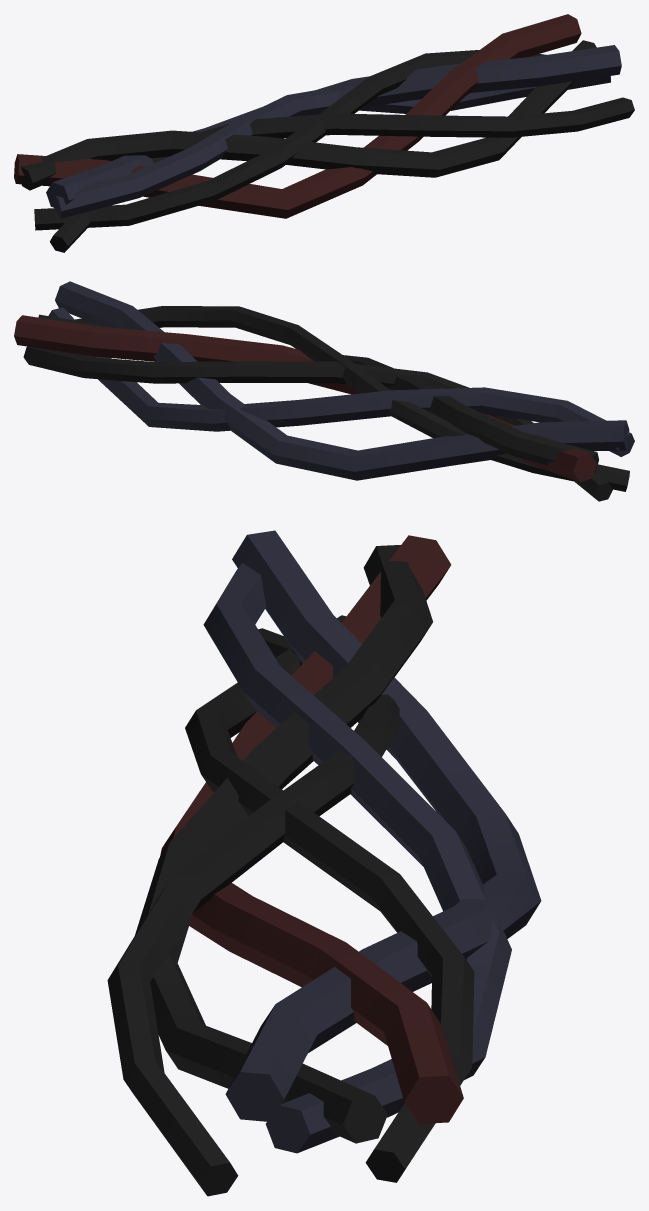
File: cable_bundle.glb
3 views of the same model, one above another, from view 1: azimuth 30°, elevation 25°; view 2: azimuth 150°, elevation 25°; view 3: azimuth 270°, elevation 25° (orthographic). The views are drawn at different scales.
Visible parts, largest first — view 1: cable_bundle; view 2: cable_bundle; view 3: cable_bundle.
Boxes of the visible parts, bbox=[...] form: cable_bundle: bbox=[14, 14, 634, 252]; cable_bundle: bbox=[14, 281, 634, 501]; cable_bundle: bbox=[107, 530, 541, 1196].
Size of the model in its own units: 3.06 by 0.3661 by 1.01.
